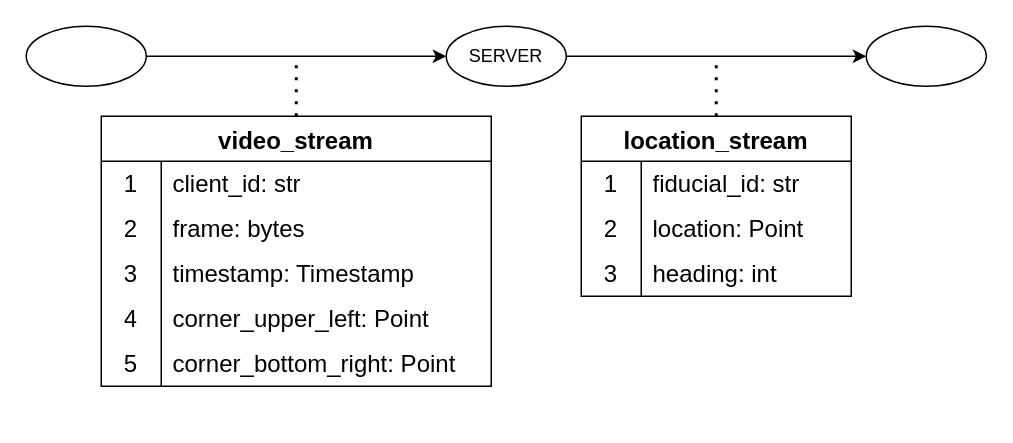
The diagram is 1013 pixels wide and 443 high, and some of its shapes have lost their labels. Each missing label, with the centre of its shape:
CLIENT: the point at 85,55
RECEIVER: the point at 925,55
